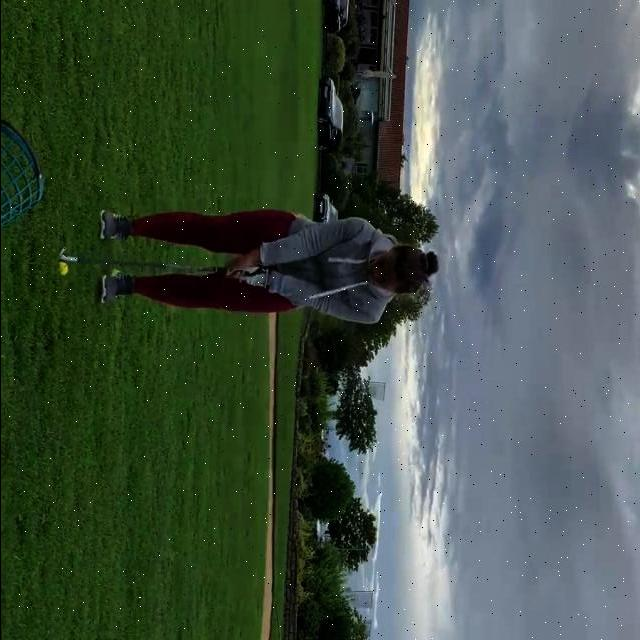golf ball: (56, 262, 67, 276)
golf club-handle: (53, 244, 253, 284)
golf club-head: (54, 246, 64, 263)
